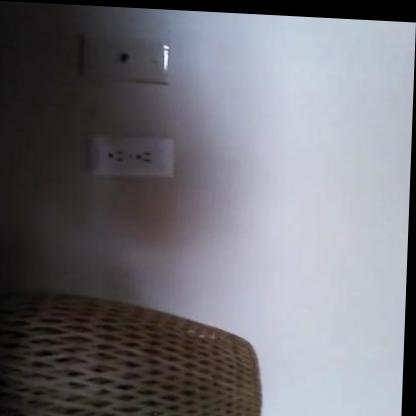OUTLET: (87, 131, 177, 180)
